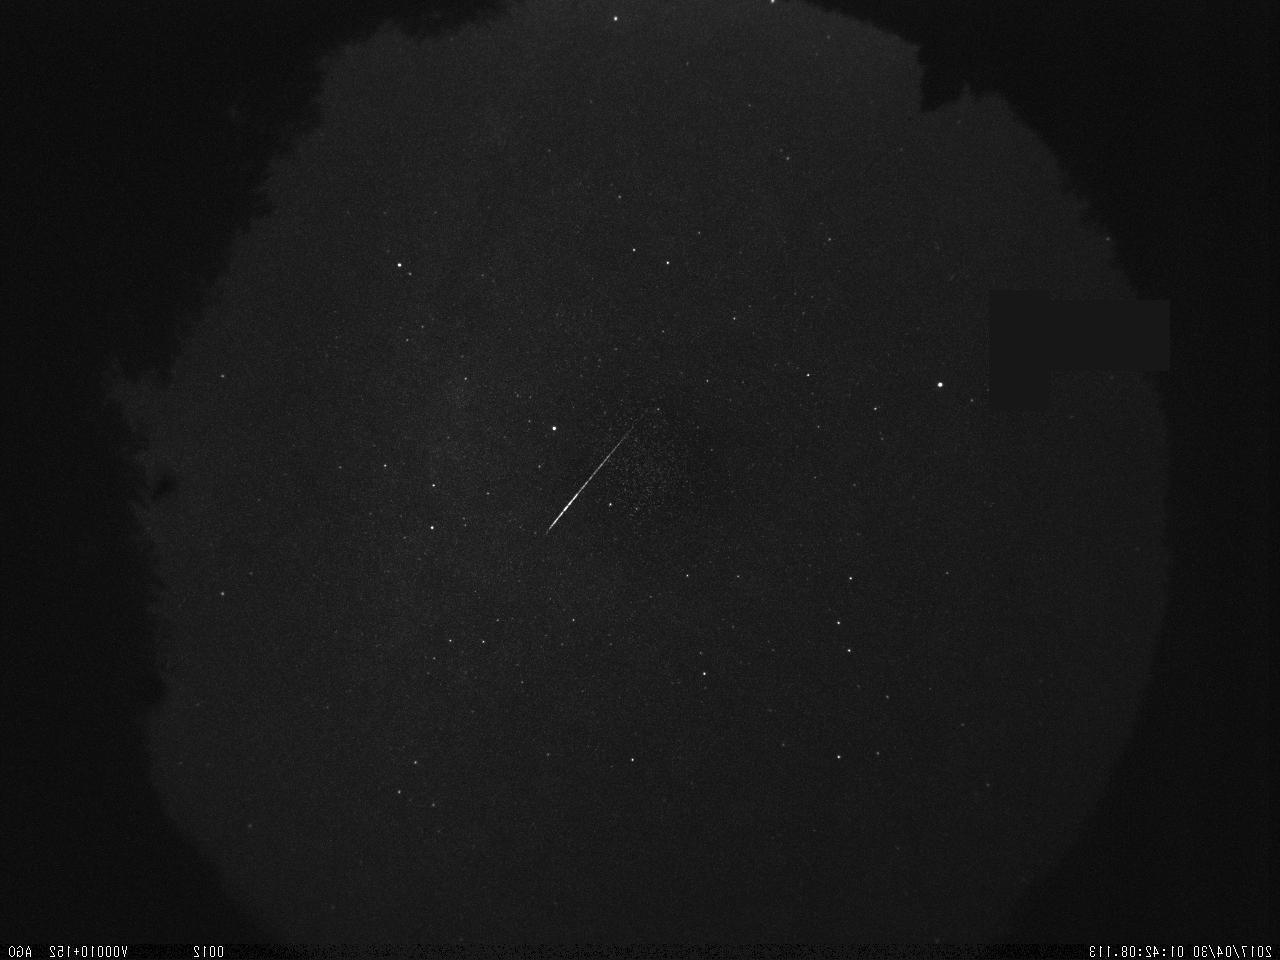meteor: (527, 401, 657, 545)
